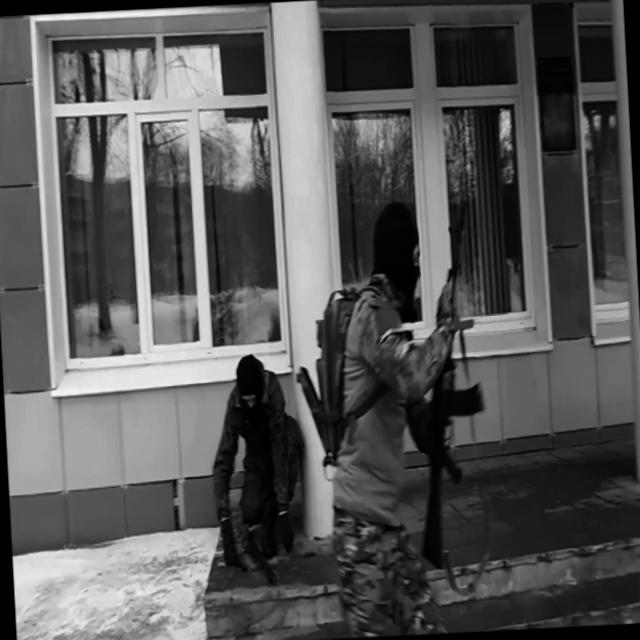gun: (403, 197, 494, 576), (234, 520, 280, 592), (224, 547, 248, 575)
person with a gun: (290, 195, 496, 640), (205, 351, 311, 588)
